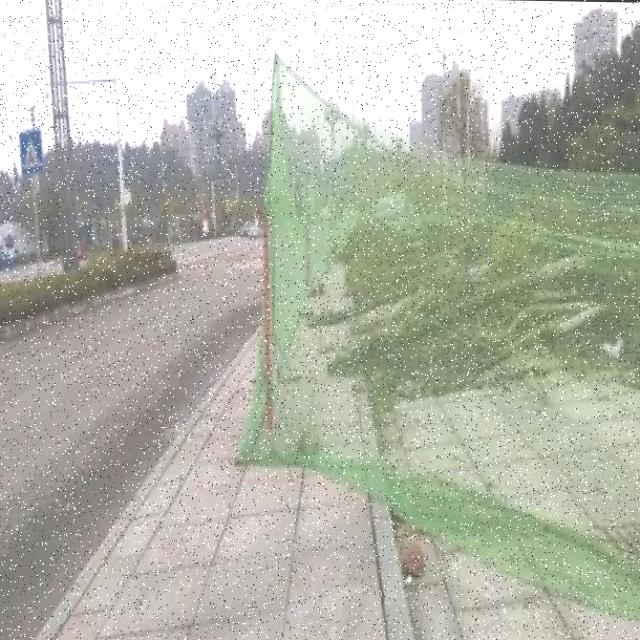fallen_object: (329, 249, 596, 386), (306, 270, 421, 327)
